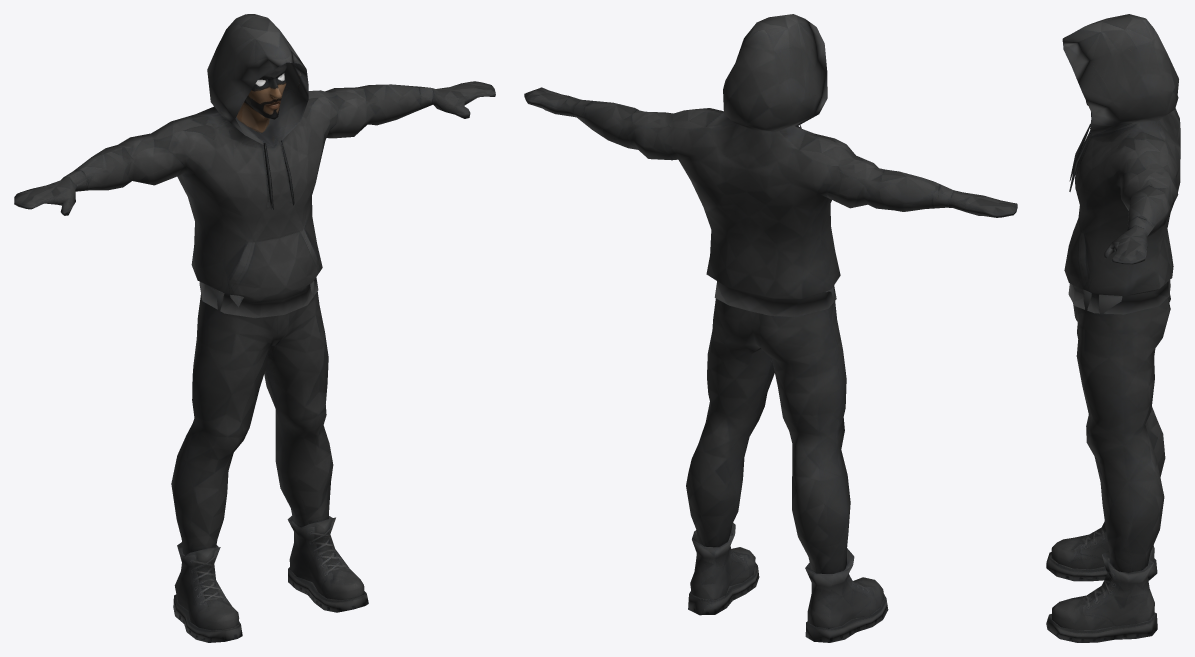
The model's file is hero_starter_suit.glb.
3 views of the same model, side by side, from view 1: azimuth 30°, elevation 25°; view 2: azimuth 150°, elevation 25°; view 3: azimuth 270°, elevation 25° (orthographic). The views are drawn at different scales.
Visible parts, largest first — view 1: Hero_Starter_Suit; view 2: Hero_Starter_Suit; view 3: Hero_Starter_Suit.
Boxes of the visible parts, box(x1,y1,x2,y2) form: Hero_Starter_Suit: box(14, 14, 495, 642); Hero_Starter_Suit: box(524, 14, 1017, 642); Hero_Starter_Suit: box(1046, 14, 1180, 642).
Size of the model in its own units: 0.8588 by 1 by 0.209.
1 material, 1 textured.
